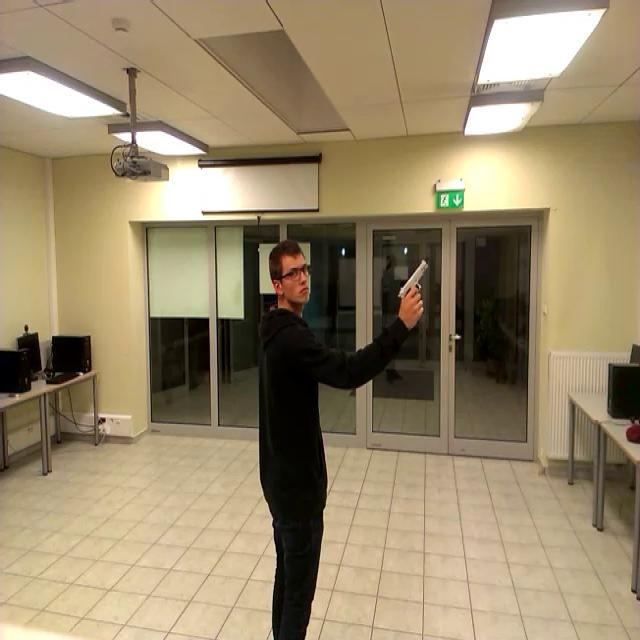Gun: (394, 246, 438, 302)
